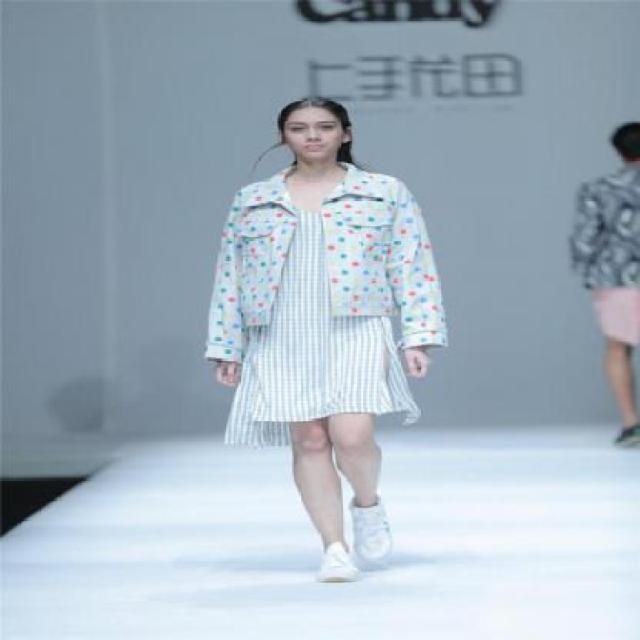Person: (219, 97, 446, 574)
